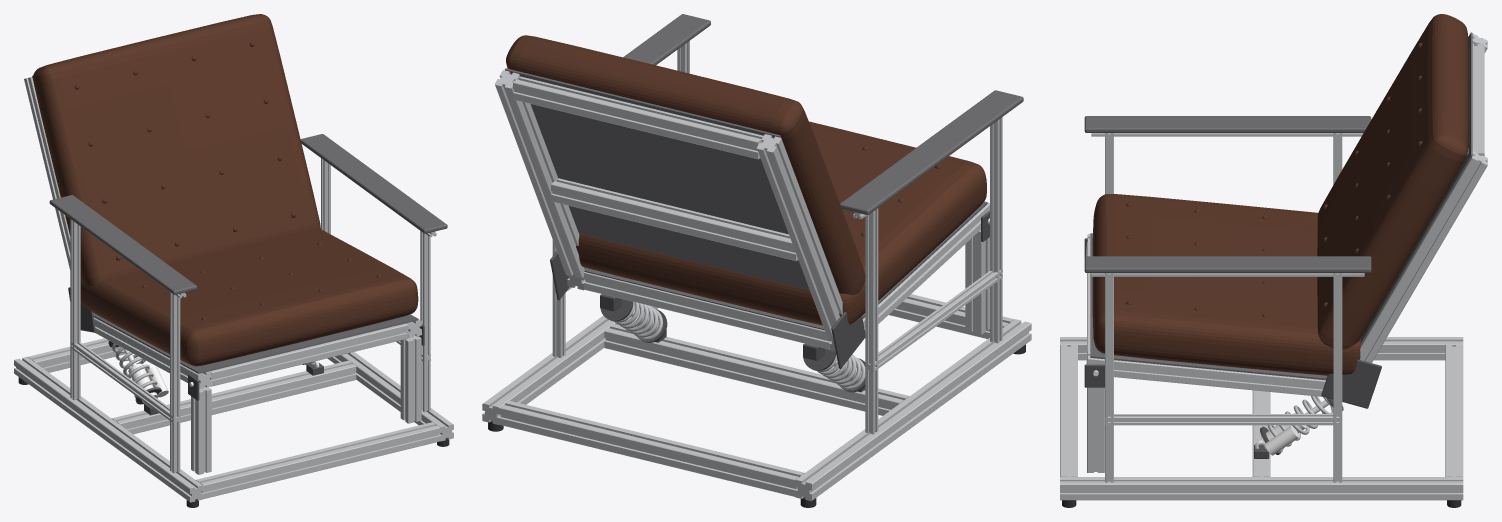
Rendered from koltuk.glb.
3 views of the same model, side by side, from view 1: azimuth 30°, elevation 25°; view 2: azimuth 150°, elevation 25°; view 3: azimuth 270°, elevation 25° (orthographic). The views are drawn at different scales.
Parts seen in each view (by area): view 1: Sırt minderi, Oturak minderi, Taban travers ön, Taban yan ray sol, Taban travers orta, Kolçak kapağı sol, Kolçak kapağı sağ, Oturak travers ön, Oturak paneli, Taban yan ray sağ, Kolçak dikmesi sol ön, Kolçak dikmesi sol arka (+9 smaller); view 2: Sırt paneli, Oturak minderi, Sırt minderi, Taban travers arka, Taban yan ray sol, Taban travers orta, Sırt travers üst, Sırt travers orta, Sırt dikmesi sol, Kolçak kapağı sol, Sırt dikmesi sağ, Oturak travers arka (+13 smaller); view 3: Oturak minderi, Sırt minderi, Taban yan ray sağ, Kolçak kapağı sağ, Kolçak kapağı sol, Sırt dikmesi sağ, Oturak yan ray sağ, Kolçak alt ray sağ, Taban travers arka, Taban travers ön, Taban yan ray sol, Kolçak dikmesi sağ arka (+13 smaller).
Boxes of the visible parts, <box> form: Sırt minderi: <box>33,14,320,286</box>; Oturak minderi: <box>80,228,418,366</box>; Taban travers ön: <box>196,422,440,498</box>; Taban yan ray sol: <box>14,357,203,502</box>; Taban travers orta: <box>112,360,356,434</box>; Kolçak kapağı sol: <box>49,195,197,294</box>; Kolçak kapağı sağ: <box>300,134,447,233</box>; Oturak travers ön: <box>210,323,408,386</box>; Oturak paneli: <box>93,312,418,373</box>; Taban yan ray sağ: <box>327,352,453,441</box>; Kolçak dikmesi sol ön: <box>170,292,180,473</box>; Kolçak dikmesi sol arka: <box>70,219,80,400</box>; Sırt paneli: <box>504,68,809,290</box>; Oturak minderi: <box>576,121,986,325</box>; Sırt minderi: <box>506,35,865,294</box>; Taban travers arka: <box>499,400,804,496</box>; Taban yan ray sol: <box>795,319,1031,501</box>; Taban travers orta: <box>604,324,909,415</box>; Sırt travers üst: <box>513,76,763,159</box>; Sırt travers orta: <box>551,178,798,261</box>; Sırt dikmesi sol: <box>757,134,842,339</box>; Kolçak kapağı sol: <box>840,90,1023,214</box>; Sırt dikmesi sağ: <box>495,70,587,278</box>; Oturak travers arka: <box>584,272,831,349</box>; Oturak minderi: <box>1092,194,1360,375</box>; Sırt minderi: <box>1317,14,1468,349</box>; Taban yan ray sağ: <box>1060,477,1463,500</box>; Kolçak kapağı sağ: <box>1084,256,1371,272</box>; Kolçak kapağı sol: <box>1084,116,1371,132</box>; Sırt dikmesi sağ: <box>1360,151,1487,362</box>; Oturak yan ray sağ: <box>1086,351,1325,396</box>; Kolçak alt ray sağ: <box>1105,414,1342,425</box>; Taban travers arka: <box>1445,344,1463,476</box>; Taban travers ön: <box>1060,344,1077,476</box>; Taban yan ray sol: <box>1060,337,1463,360</box>; Kolçak dikmesi sağ arka: <box>1333,273,1342,482</box>.
Size of the model in its own units: 0.81 by 0.8903 by 0.9551.
